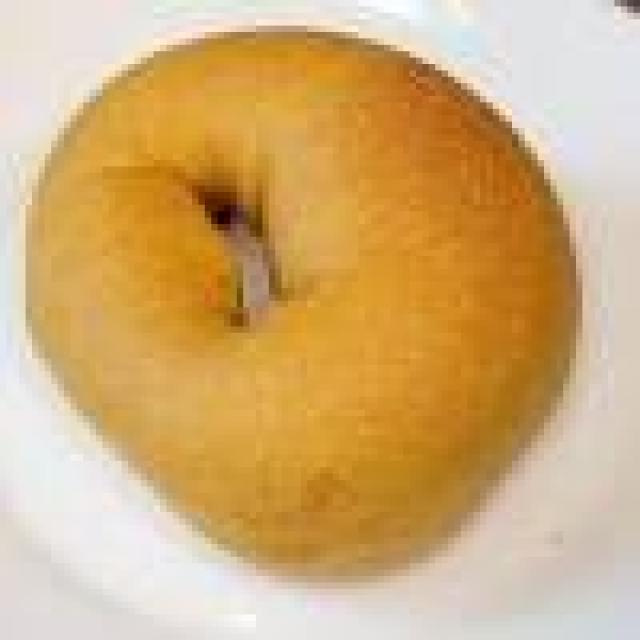Bagel: (30, 29, 576, 568)
